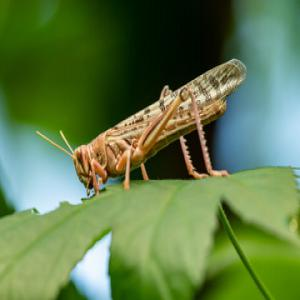locust: (56, 42, 258, 196)
